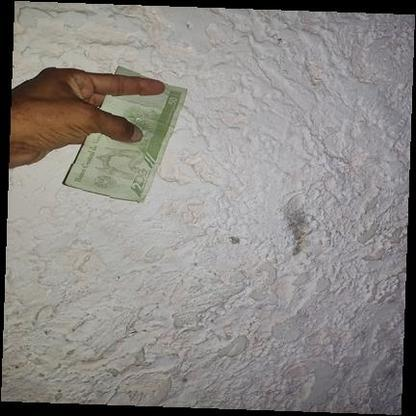fifty-back-vef: (63, 64, 187, 205)
